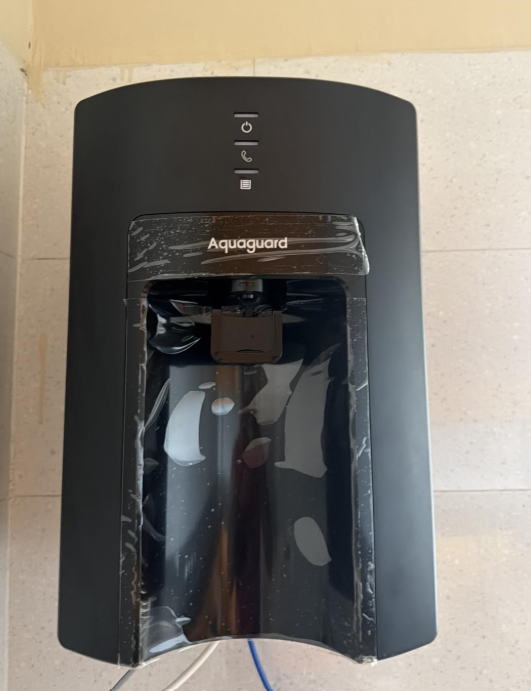water purifier: (48, 73, 451, 669)
